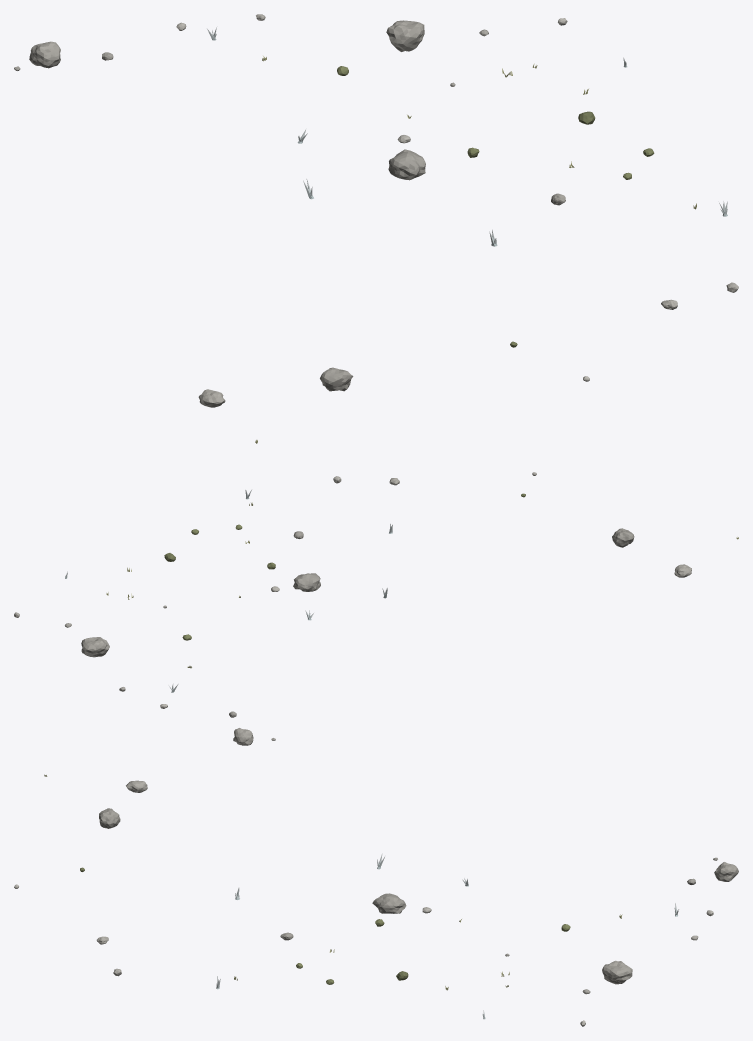
The model's file is coast_land_scatter_c12_16.glb.
3 renders of one model, top to bottom at view 1: azimuth 30°, elevation 25°; view 2: azimuth 150°, elevation 25°; view 3: azimuth 270°, elevation 25°, orthographic. The views are drawn at different scales.
Parts seen in each view (by area): view 1: coast_land_scatter_c12_16; view 2: coast_land_scatter_c12_16; view 3: coast_land_scatter_c12_16.
Part boxes in pixels (bbox=[...]): coast_land_scatter_c12_16: bbox=[14, 14, 738, 443]; coast_land_scatter_c12_16: bbox=[14, 472, 738, 745]; coast_land_scatter_c12_16: bbox=[14, 774, 738, 1026].
Size of the model in its own units: 106 by 7.36 by 134.
